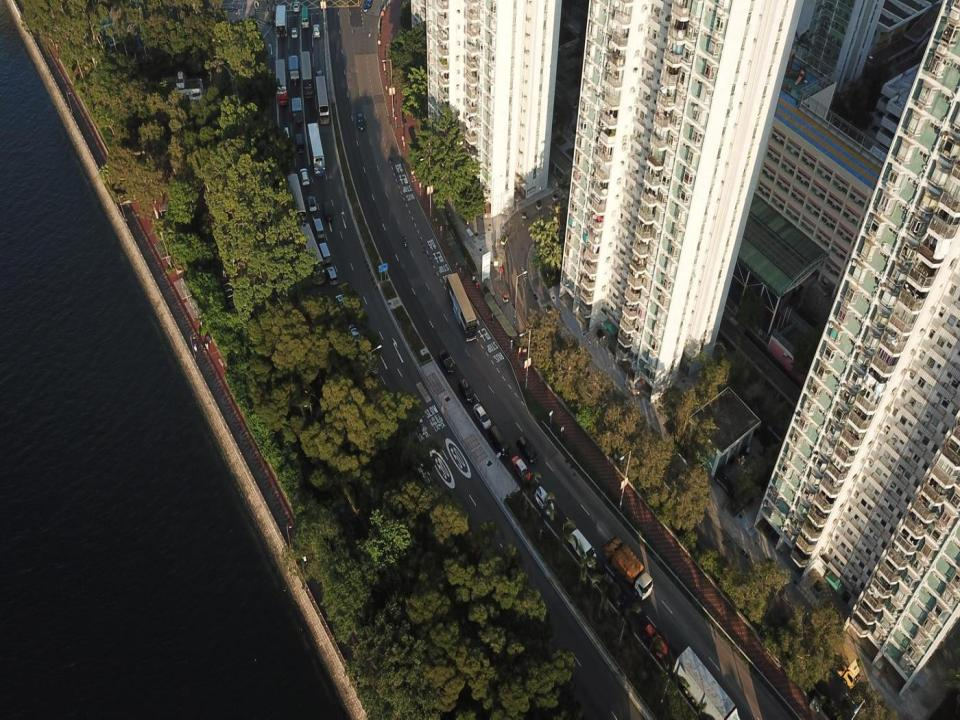bus: (445, 272, 477, 342), (299, 223, 327, 284), (288, 174, 308, 226), (308, 122, 326, 178), (315, 75, 330, 126), (299, 50, 313, 99), (275, 59, 288, 105)
car: (641, 623, 669, 657), (517, 435, 538, 466), (533, 486, 555, 515), (512, 455, 532, 483), (473, 402, 492, 429), (439, 349, 456, 373), (349, 326, 362, 356), (459, 378, 474, 404), (364, 354, 378, 378), (300, 169, 310, 185), (357, 114, 366, 131), (307, 195, 316, 211), (312, 24, 322, 38), (364, 0, 373, 12), (290, 27, 298, 38), (294, 1, 300, 12)
truck: (671, 646, 740, 719), (805, 610, 861, 690), (602, 536, 653, 600), (275, 5, 288, 38), (300, 4, 310, 28)
van: (570, 529, 598, 568), (490, 423, 512, 458), (336, 294, 350, 315), (289, 55, 300, 79), (292, 98, 303, 122), (319, 242, 331, 264), (322, 202, 334, 223), (280, 127, 291, 149), (314, 218, 325, 240), (327, 267, 339, 287), (176, 70, 187, 89), (296, 134, 305, 154)
